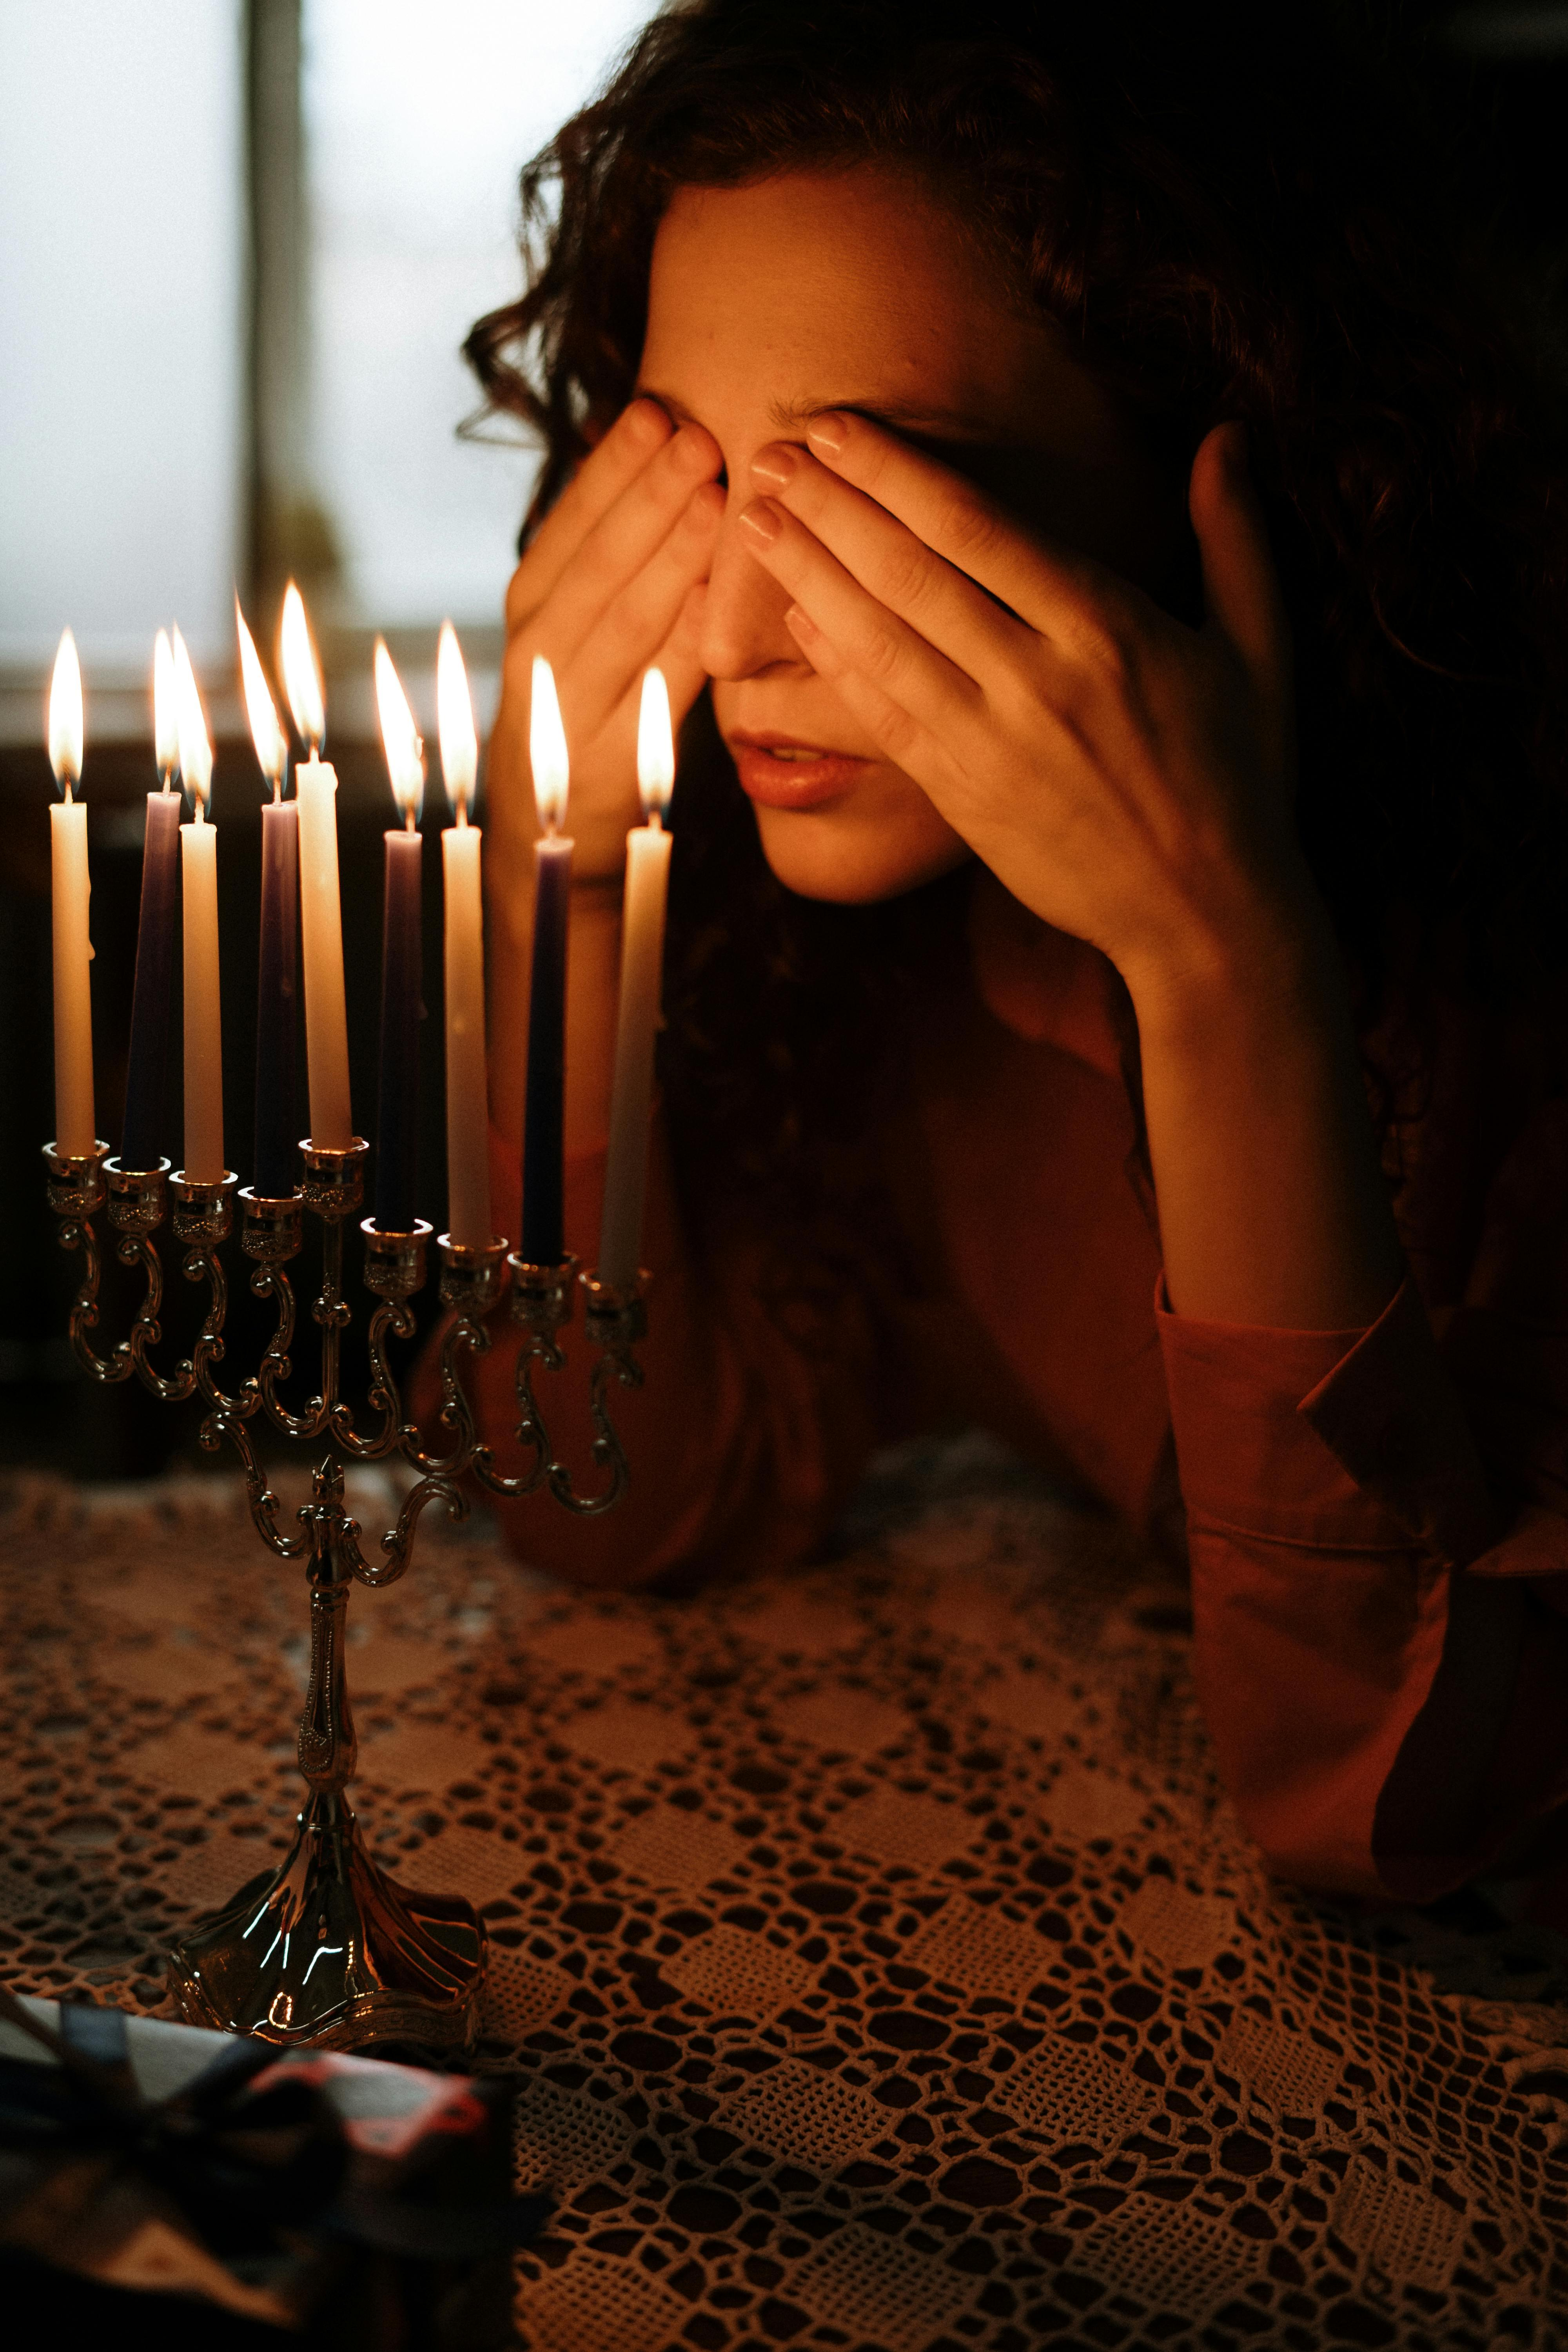Fire: (228, 572, 343, 814), (126, 609, 222, 823), (357, 628, 425, 829), (612, 647, 686, 829), (518, 632, 579, 835), (37, 612, 89, 810), (429, 625, 481, 819)
